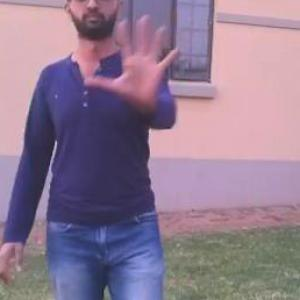follow_hand: (84, 10, 185, 110)
